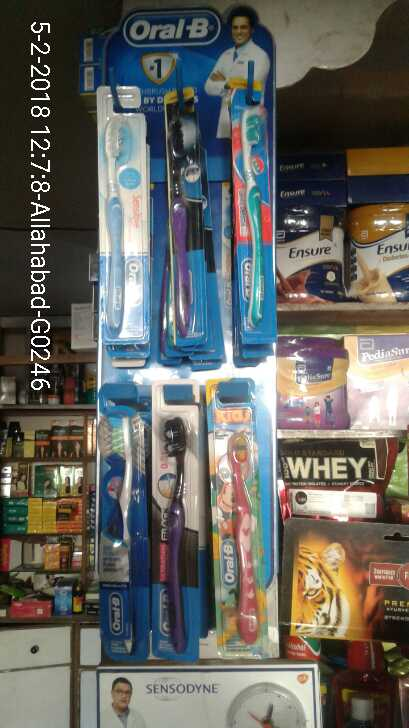pharmacy: (200, 380, 271, 650), (147, 382, 203, 659), (93, 78, 153, 336), (95, 380, 149, 660), (230, 85, 287, 329), (163, 83, 210, 346)
